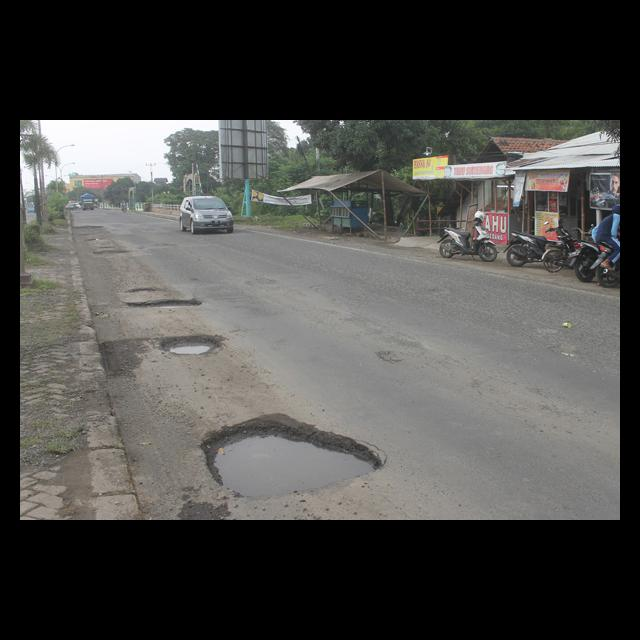lubang_kecil: (187, 396, 388, 506), (146, 323, 238, 366), (119, 283, 206, 316), (89, 244, 132, 259)
